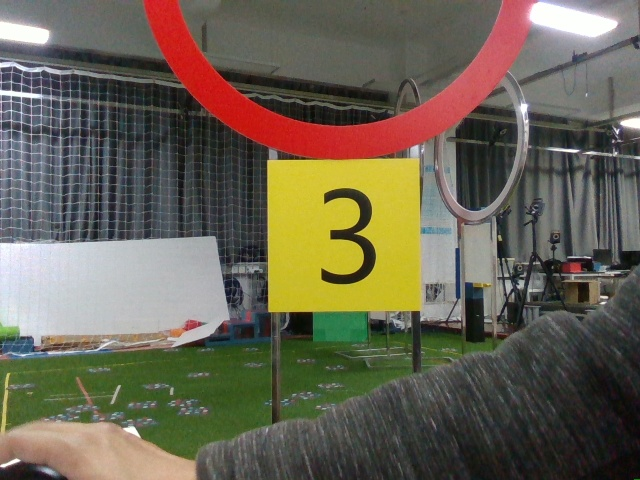target: (268, 153, 413, 309)
